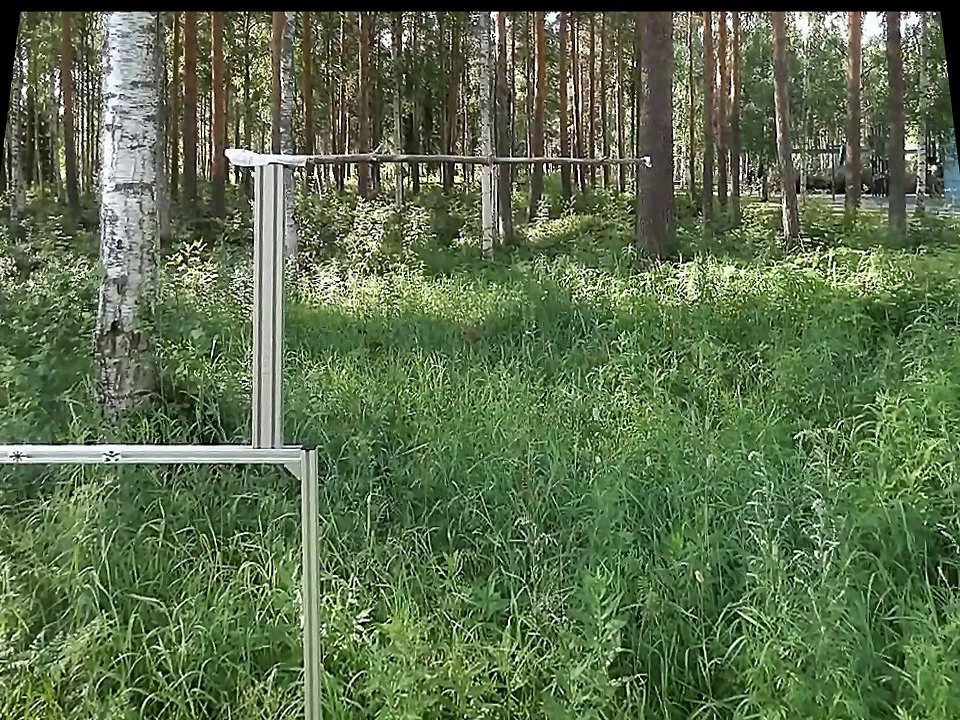aluminum_frame: (248, 164, 287, 448), (0, 438, 302, 472), (298, 439, 324, 718)
branch: (314, 137, 635, 171)
